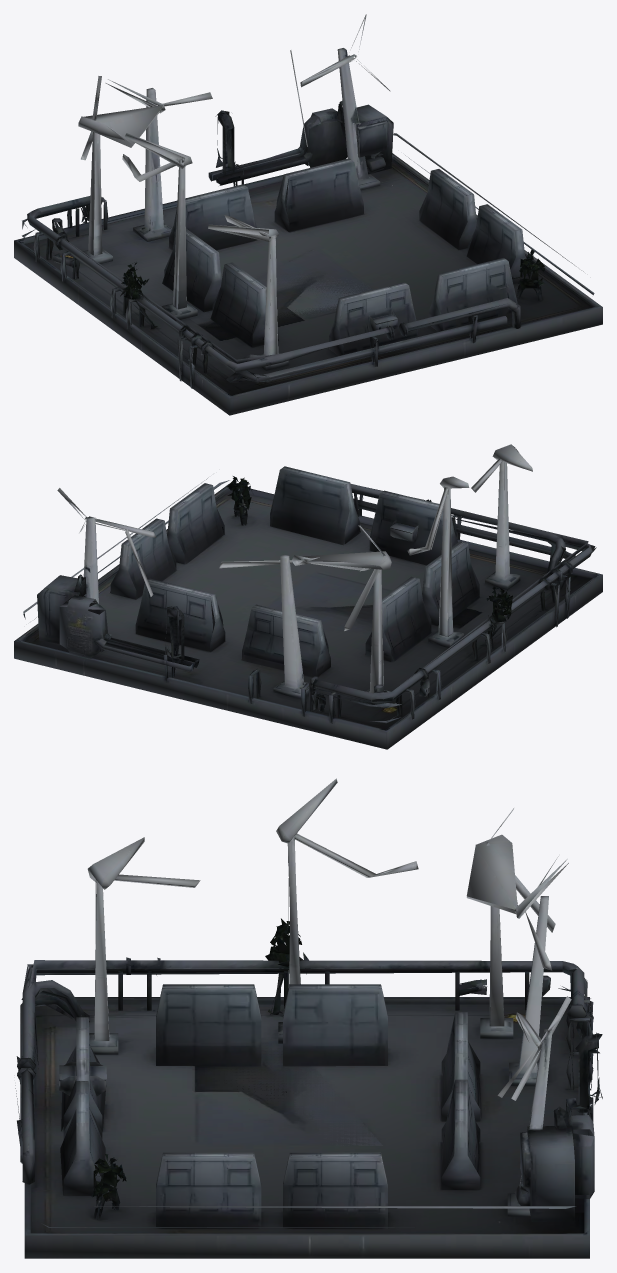
The model's file is cqc-tempest-storm-v1-lod1.glb.
The picture shows the model from 3 angles, top to bottom: view 1: azimuth 30°, elevation 25°; view 2: azimuth 150°, elevation 25°; view 3: azimuth 270°, elevation 25°; orthographic projection. The views are drawn at different scales.
Parts seen in each view (by area): view 1: cqc-tempest-storm-v1-lod1; view 2: cqc-tempest-storm-v1-lod1; view 3: cqc-tempest-storm-v1-lod1.
Part boxes in pixels (x1,y1,x2,y2): cqc-tempest-storm-v1-lod1: (14, 14, 602, 415); cqc-tempest-storm-v1-lod1: (14, 444, 602, 749); cqc-tempest-storm-v1-lod1: (15, 778, 602, 1258).
Size of the model in its own units: 189 by 90.35 by 192.
1 material, 1 textured.
